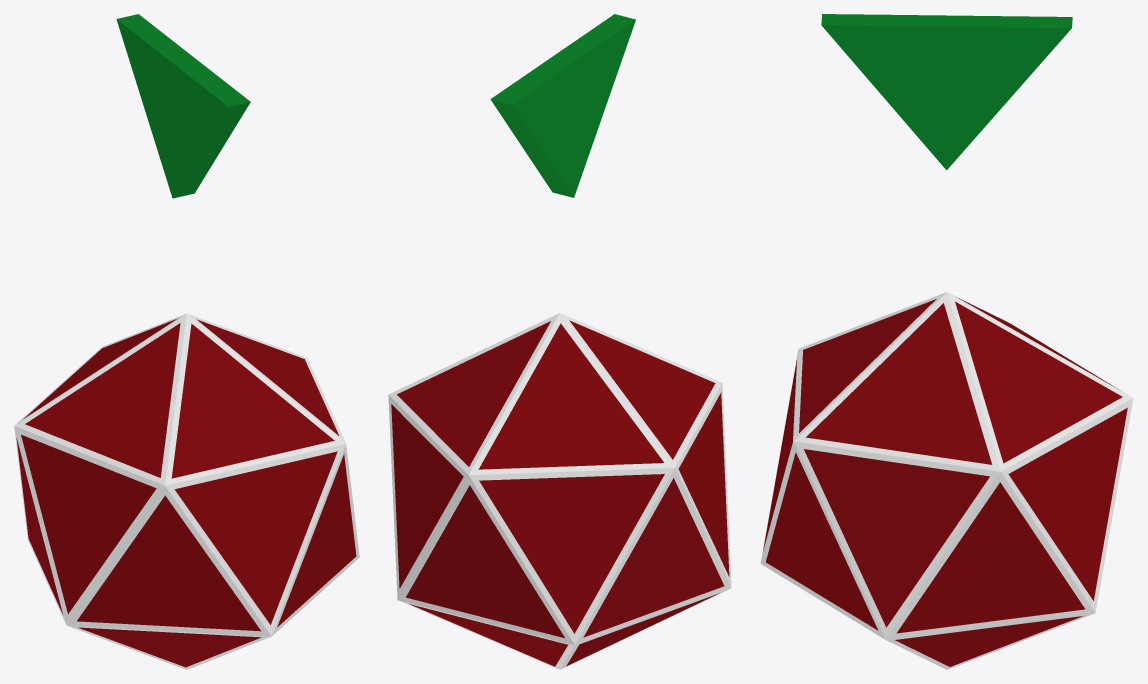
Rendered from RedRock.glb.
3 views of the same model, side by side, from view 1: azimuth 30°, elevation 25°; view 2: azimuth 150°, elevation 25°; view 3: azimuth 270°, elevation 25° (orthographic). The views are drawn at different scales.
Parts seen in each view (by area): view 1: craftrock2; view 2: craftrock2; view 3: craftrock2.
Part boxes in pixels (x1,y1,x2,y2): craftrock2: (14,14,359,669); craftrock2: (388,14,731,669); craftrock2: (760,14,1133,669).
Size of what is drawn, in the model's own units: 1.04 by 2.09 by 1.09.
Materials: 1 (1 with a texture image).
